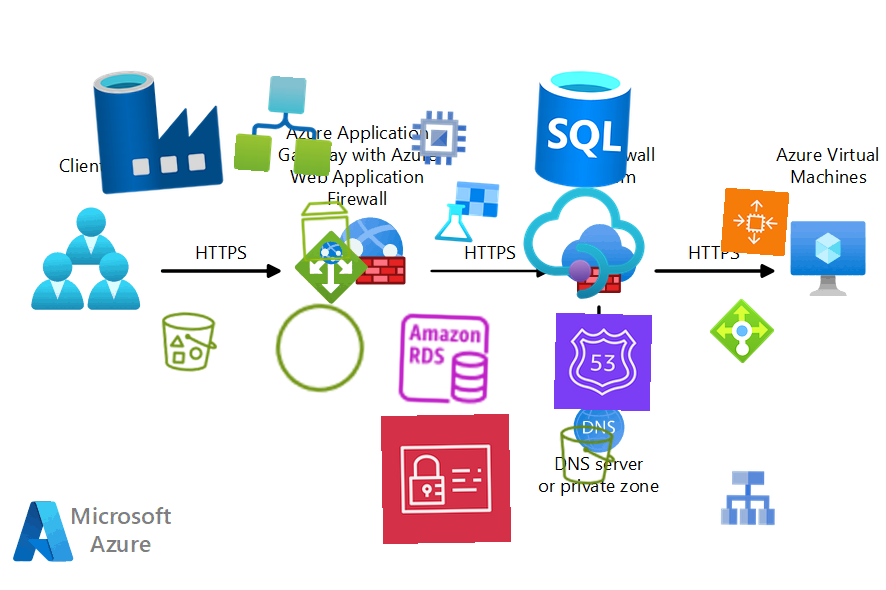aws_amazon_ec2_auto_scaling: (720, 187, 790, 257)
aws_amazon_route_53: (553, 312, 653, 412)
aws_aurora_amazon_rds_instance: (394, 309, 494, 409)
aws_elastic_block_store_volume: (292, 197, 360, 265)
aws_identity_and_access_management: (380, 413, 512, 545)
aws_simple_storage_service_bucket: (553, 421, 621, 489)
aws_simple_storage_service_bucket_with_objects: (155, 308, 223, 376)
aws_simple_storage_service_object: (269, 297, 371, 399)
azure_api_management_services: (518, 177, 650, 309)
azure_data_factories: (88, 59, 228, 199)
azure_load_balancers: (709, 298, 775, 364)
azure_logic_apps: (233, 73, 337, 177)
azure_machine_learning_studio_workspaces: (432, 177, 502, 247)
azure_sql_database: (515, 59, 651, 195)
gcp_cloud_load_balancing: (715, 465, 781, 531)
gcp_compute_engine: (405, 104, 473, 172)
